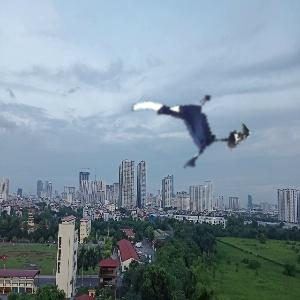drone: (134, 78, 234, 178)
